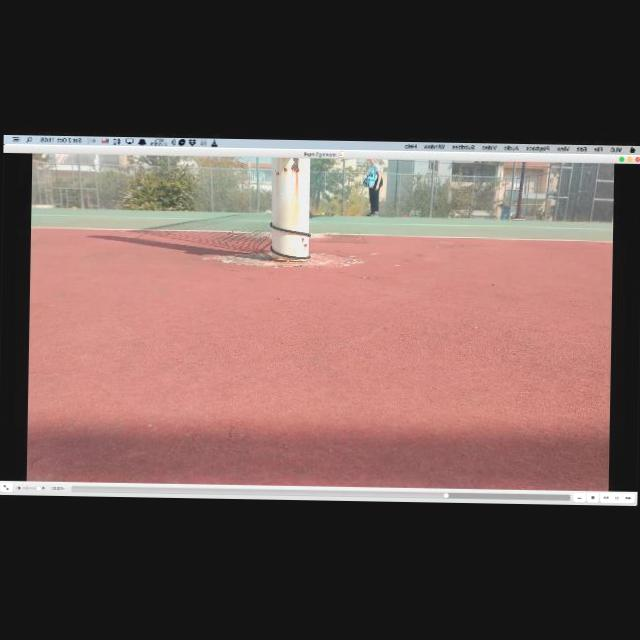Tennis Ball: (321, 211, 324, 215)
